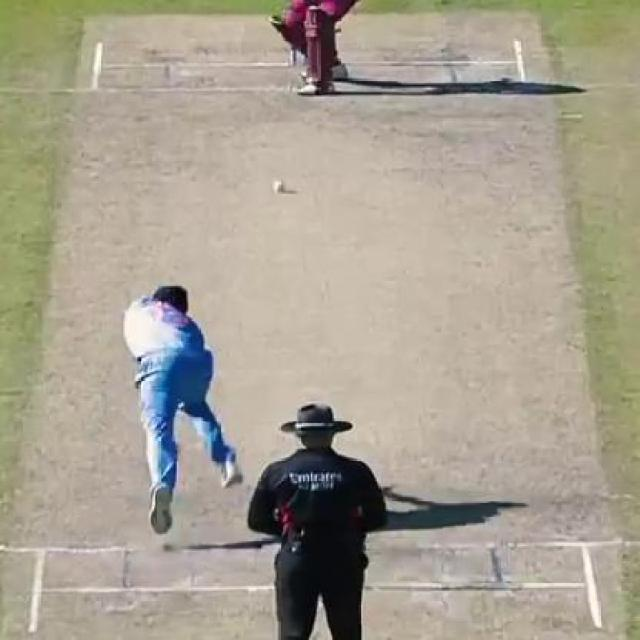Cricket ball: (270, 177, 288, 197)
